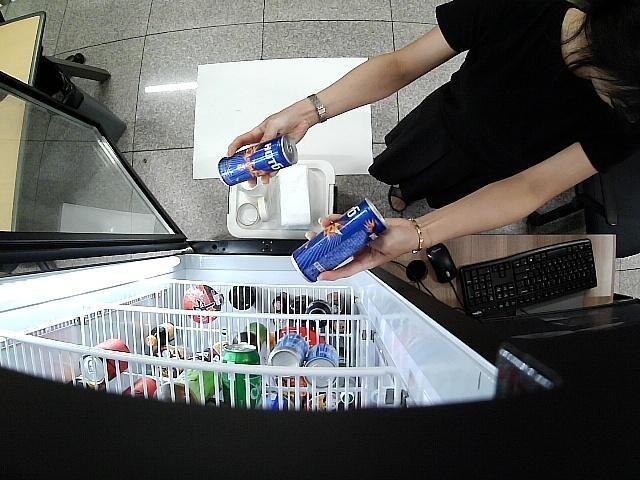16_hot6: (290, 196, 388, 284), (219, 136, 299, 184)
